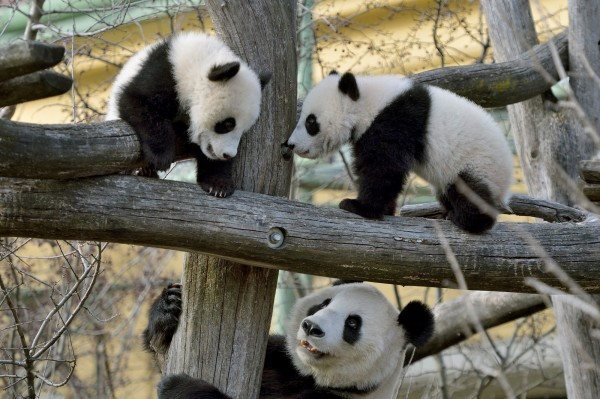panda: (128, 264, 449, 399), (284, 62, 519, 235), (102, 25, 268, 204)
